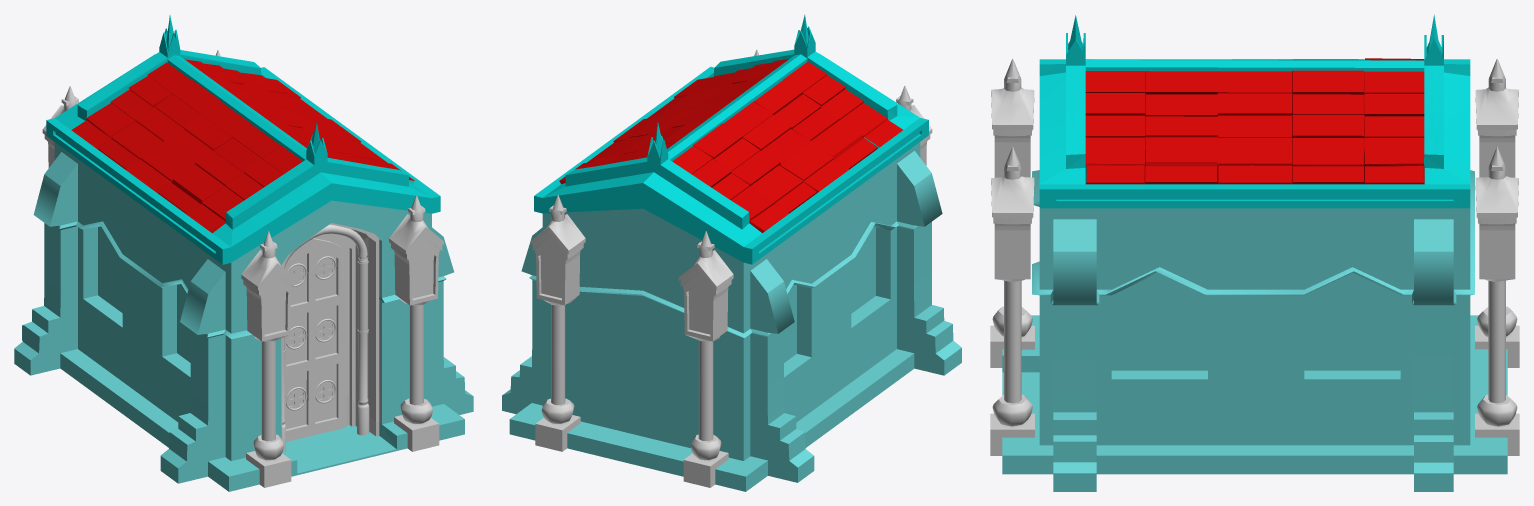
File: Child_Matthew_LowPoly.FBX
3 renders of one model, left to right at view 1: azimuth 30°, elevation 25°; view 2: azimuth 150°, elevation 25°; view 3: azimuth 270°, elevation 25°, orthographic. The views are drawn at different scales.
Parts seen in each view (by area): view 1: Box001, Door, Box003, Box002, Object001, Loft001, Box004; view 2: Box001, Box004, Box005, Box002; view 3: Box001, Box003, Box005, Box002, Box004.
Boxes of the visible parts, box(x1,y1,x2,y2) form: Box001: box(14, 15, 473, 491); Door: box(284, 238, 345, 441); Box003: box(389, 195, 443, 451); Box002: box(241, 231, 296, 487); Object001: box(281, 223, 381, 439); Loft001: box(282, 224, 369, 451); Box004: box(42, 86, 78, 167); Box001: box(502, 14, 961, 491); Box004: box(678, 231, 733, 487); Box005: box(530, 195, 585, 451); Box002: box(896, 85, 932, 165); Box001: box(1002, 14, 1507, 491); Box003: box(990, 147, 1034, 455); Box005: box(1475, 147, 1519, 455); Box002: box(990, 59, 1034, 367); Box004: box(1475, 59, 1519, 367).
Bounding box in the file's own units: 318 × 333 × 404.
